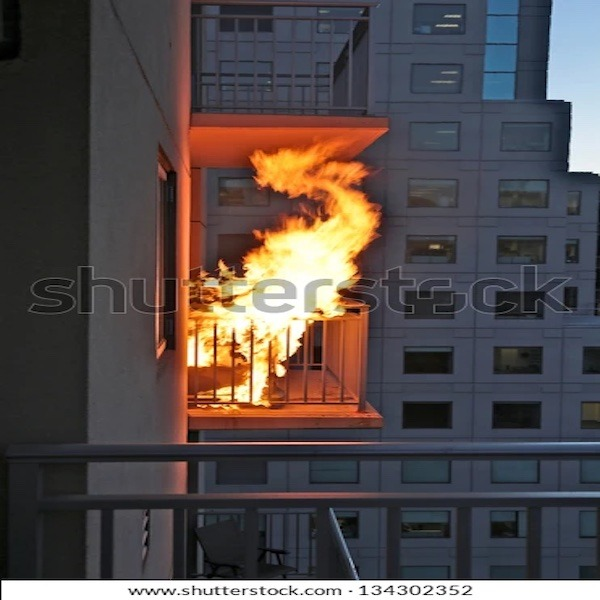fire: (247, 146, 378, 277), (194, 306, 302, 404)
